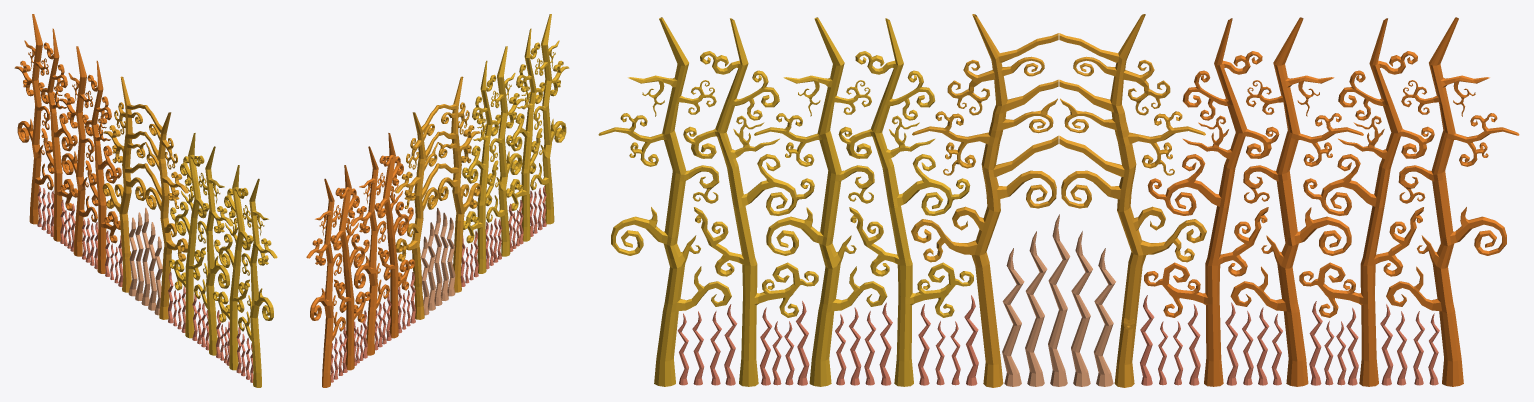
File: Portail_V4.fbx
The picture shows the model from 3 angles, left to right: view 1: azimuth 30°, elevation 25°; view 2: azimuth 150°, elevation 25°; view 3: azimuth 270°, elevation 25°; orthographic projection. The views are drawn at different scales.
Visible parts, largest first — view 1: Portal; view 2: Portal; view 3: Portal.
Boxes of the visible parts, x1,y1,x2,y2 form: Portal: (14,14,277,387); Portal: (306,14,569,387); Portal: (598,14,1519,387).
Bounding box in the file's own units: 25 × 511 × 1156.
